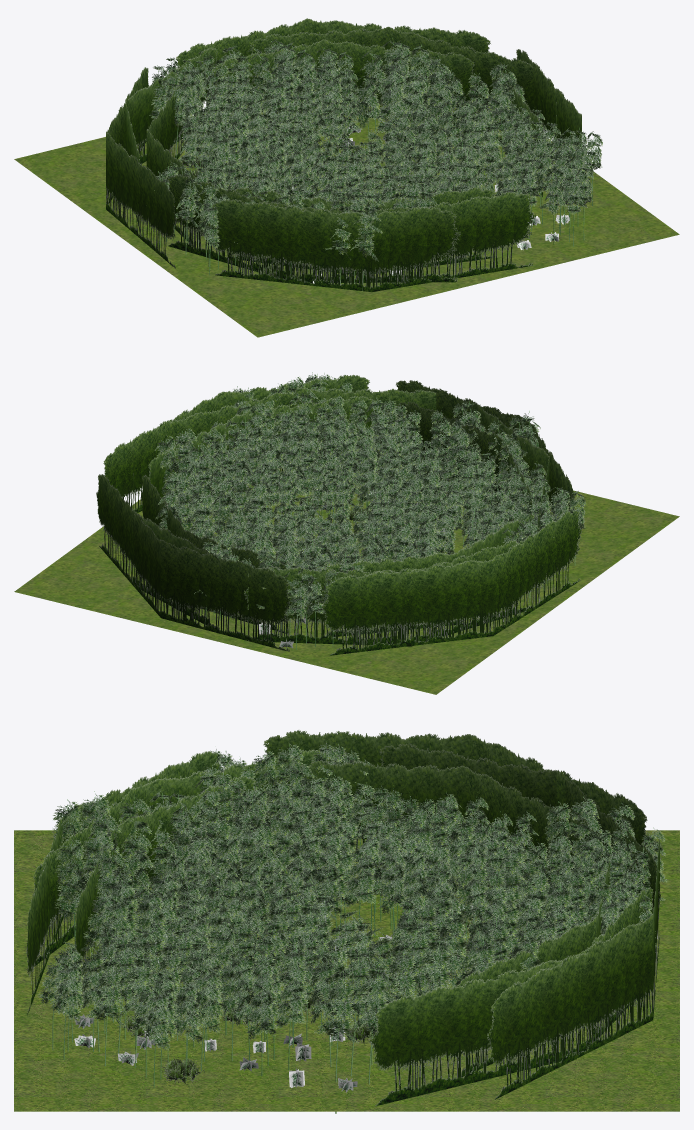
File: bamboo(ground).fbx
3 renders of one model, top to bottom at view 1: azimuth 30°, elevation 25°; view 2: azimuth 150°, elevation 25°; view 3: azimuth 270°, elevation 25°, orthographic. The views are drawn at different scales.
Parts seen in each view (by area): view 1: obj120, 地面, 背景, obj121, obj51, obj32, obj34, obj49, obj35, obj17, obj41, obj29 (+42 smaller); view 2: obj120, 地面, 背景, obj121, obj51, obj34, obj15, obj49, obj20, obj22, obj32, obj43 (+41 smaller); view 3: 地面, obj120, 背景, obj121, obj34, obj15, obj29, obj2, obj31, obj32, obj30, obj33 (+46 smaller).
Boxes of the visible parts, bbox=[...] form: obj120: bbox=[106, 18, 581, 291]; 地面: bbox=[14, 103, 679, 337]; 背景: bbox=[125, 26, 557, 283]; obj121: bbox=[146, 39, 542, 275]; obj51: bbox=[352, 65, 425, 159]; obj32: bbox=[406, 55, 466, 148]; obj34: bbox=[464, 62, 527, 157]; obj49: bbox=[357, 38, 431, 131]; obj35: bbox=[539, 163, 593, 246]; obj17: bbox=[325, 191, 385, 290]; obj41: bbox=[149, 65, 204, 158]; obj29: bbox=[531, 136, 590, 233]; obj120: bbox=[96, 374, 581, 655]; 地面: bbox=[14, 450, 679, 694]; 背景: bbox=[132, 387, 549, 646]; obj121: bbox=[141, 396, 534, 636]; obj51: bbox=[210, 462, 276, 533]; obj34: bbox=[154, 428, 225, 518]; obj15: bbox=[428, 400, 486, 471]; obj49: bbox=[155, 474, 216, 533]; obj20: bbox=[310, 457, 362, 529]; obj22: bbox=[282, 437, 345, 523]; obj32: bbox=[176, 452, 240, 541]; obj43: bbox=[251, 511, 315, 567]; 地面: bbox=[14, 830, 679, 1111]; obj120: bbox=[26, 730, 659, 1099]; 背景: bbox=[30, 743, 660, 1105]; obj121: bbox=[74, 759, 611, 1078]; obj34: bbox=[310, 948, 394, 1113]; obj15: bbox=[55, 830, 153, 948]; obj29: bbox=[80, 939, 157, 1067]; obj2: bbox=[297, 832, 376, 946]; obj31: bbox=[231, 960, 305, 1076]; obj32: bbox=[365, 921, 456, 1003]; obj30: bbox=[175, 945, 250, 1071]; obj33: bbox=[131, 969, 203, 1087].
Size of the model in its own units: 100 by 26.5 by 100.
